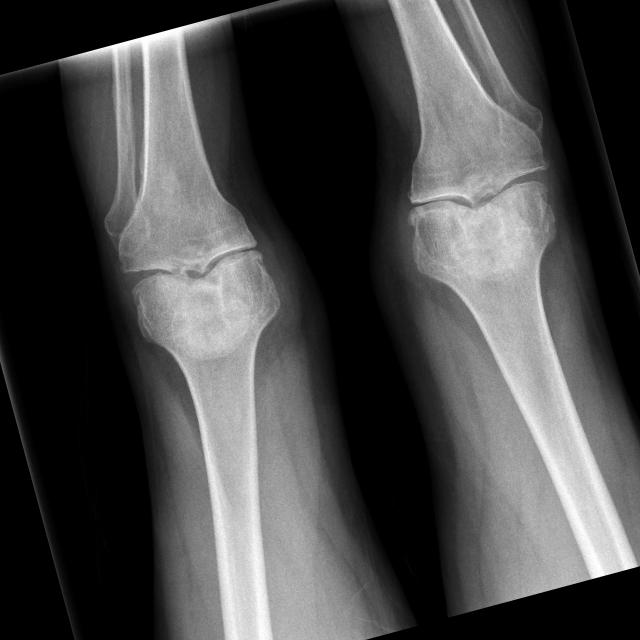Knee: (384, 125, 568, 277), (110, 200, 282, 354)
